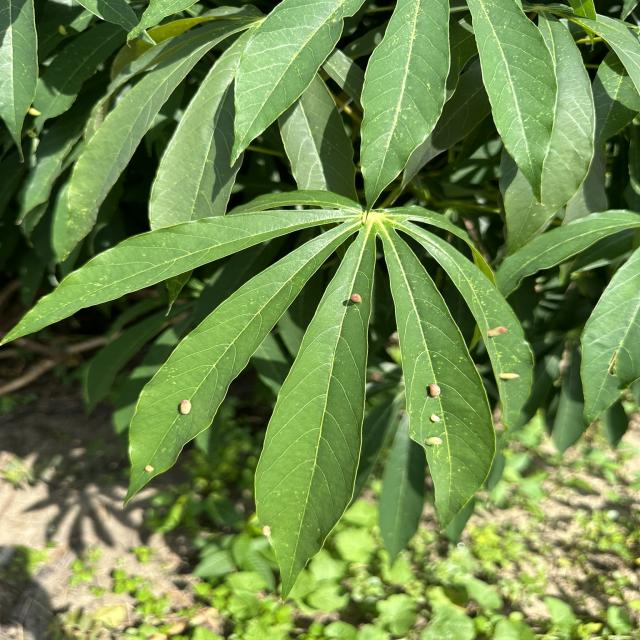Mosca: (419, 376, 447, 452), (171, 392, 197, 423), (483, 318, 512, 345), (494, 366, 523, 384), (347, 287, 370, 308), (132, 460, 162, 474), (16, 105, 48, 118)
